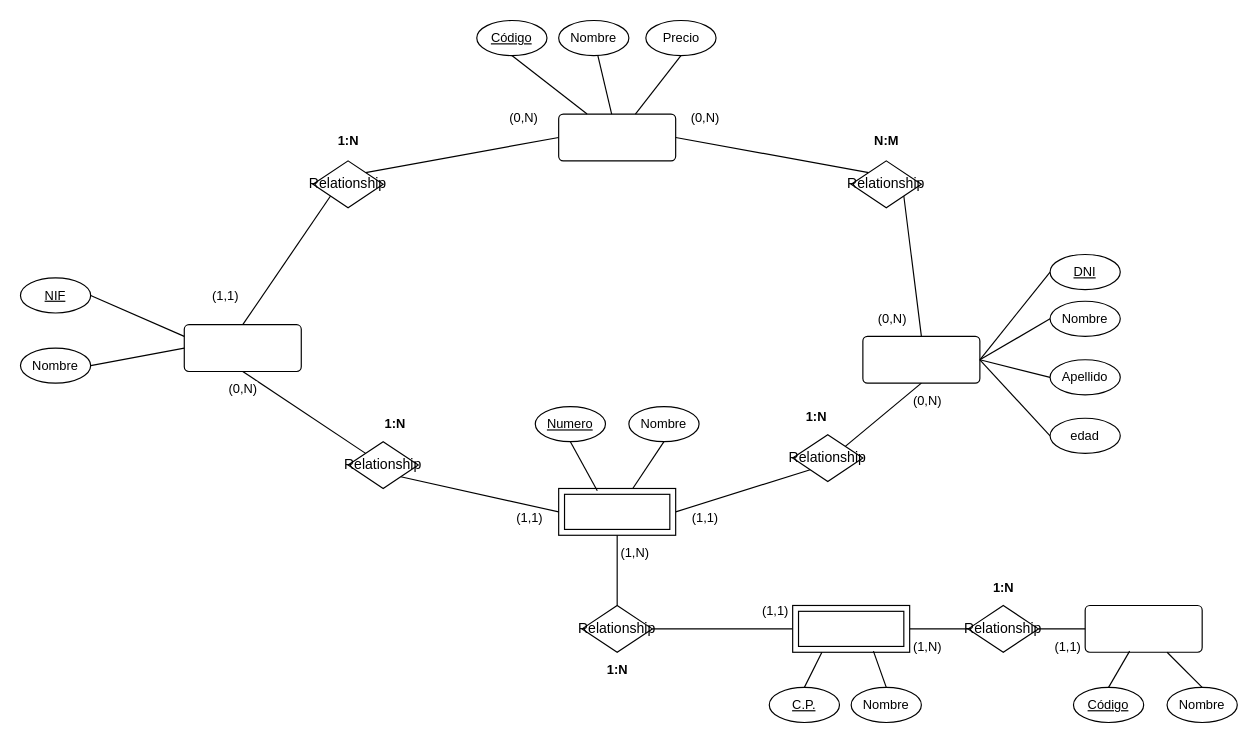
The diagram is 1258 pixels wide and 743 high, and some of its shapes have lost their labels. Here are the shapes that lost their labels. From the top down, the centre of each, then its label:
At point 617,137: "Productos".
At point 242,347: "Proveedor".
At point 921,359: "Cliente".
At point 617,511: "Calle".
At point 851,628: "Población".
At point 1143,628: "Provincia".
